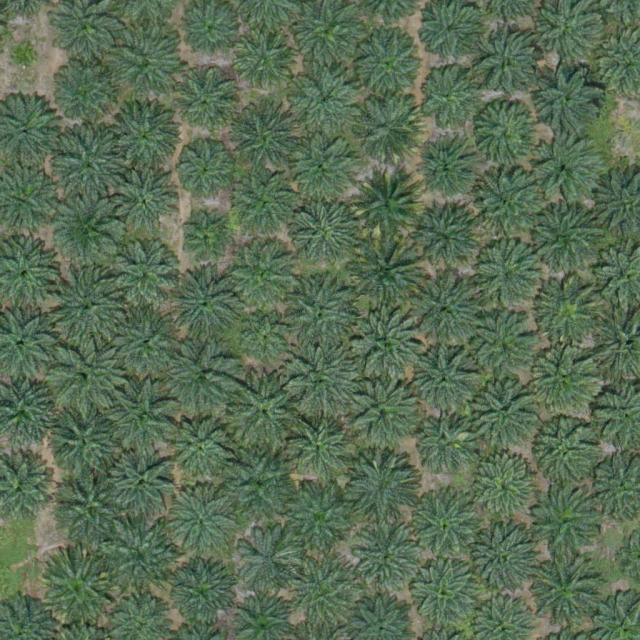Healthy: (52, 129, 130, 208), (48, 267, 126, 346), (45, 339, 123, 418), (230, 374, 308, 453), (284, 279, 362, 358), (231, 103, 302, 174), (106, 384, 177, 455), (110, 309, 181, 380), (287, 344, 358, 415), (531, 209, 602, 279), (532, 137, 602, 208), (533, 64, 603, 135), (472, 170, 543, 240), (354, 31, 424, 102), (287, 201, 357, 272), (290, 65, 360, 136), (111, 28, 181, 99), (109, 99, 179, 170), (51, 410, 121, 481), (106, 526, 176, 597), (108, 449, 178, 520), (109, 242, 179, 313), (168, 272, 238, 343), (169, 343, 239, 414), (224, 455, 294, 526), (284, 487, 354, 558), (355, 524, 425, 595), (346, 455, 417, 525), (351, 315, 422, 385), (352, 237, 422, 308), (410, 561, 480, 632), (471, 382, 541, 453), (472, 27, 542, 97), (413, 207, 483, 277), (352, 94, 422, 164), (293, 2, 363, 72), (53, 197, 123, 267), (55, 472, 125, 542), (168, 562, 238, 632), (286, 562, 356, 632), (348, 380, 418, 450), (411, 275, 481, 345), (409, 343, 479, 413), (412, 492, 482, 562), (466, 527, 536, 597), (470, 454, 540, 524), (532, 489, 602, 559), (529, 560, 599, 630), (55, 61, 118, 124), (235, 532, 298, 595), (289, 414, 352, 477), (535, 419, 598, 482), (476, 102, 538, 165), (417, 139, 479, 202), (419, 68, 481, 131), (292, 135, 355, 197), (235, 172, 297, 235), (115, 171, 177, 234), (173, 490, 235, 553), (232, 248, 294, 311), (415, 408, 477, 471), (470, 310, 532, 373), (476, 242, 538, 305), (539, 278, 601, 341), (534, 351, 596, 414), (234, 34, 296, 96), (169, 417, 231, 479), (179, 145, 234, 200), (181, 79, 236, 134), (185, 4, 240, 59), (245, 316, 292, 364), (181, 217, 228, 264)
Small: (10, 43, 41, 74)
Yellow: (39, 554, 117, 632), (355, 172, 425, 242)
